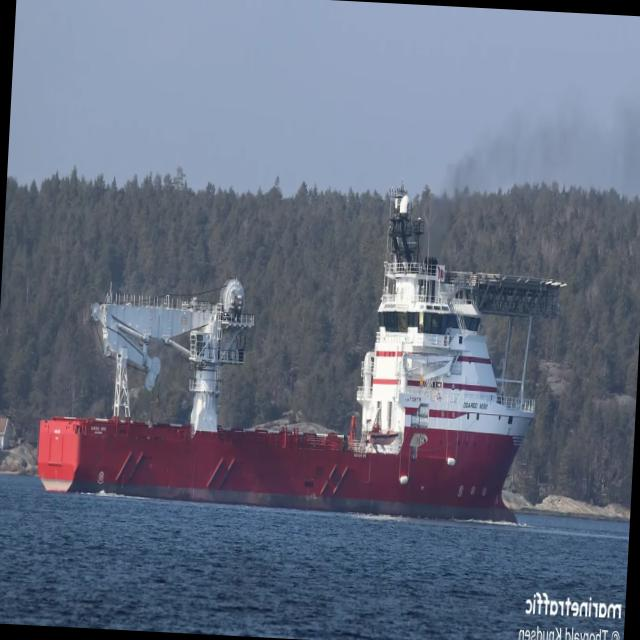Offshore: (39, 185, 565, 520)
